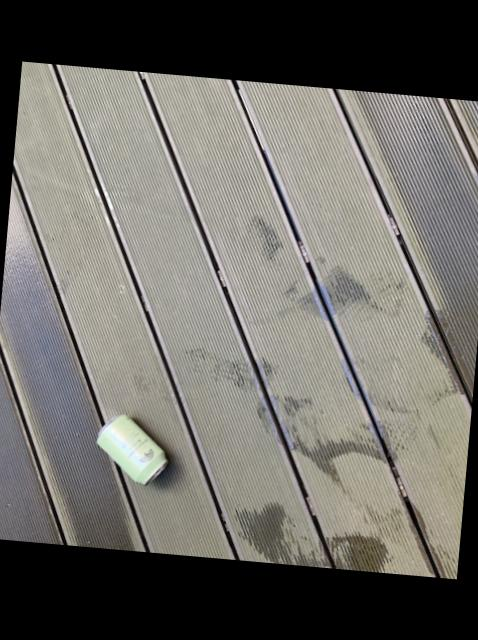metal: (92, 412, 166, 485)
